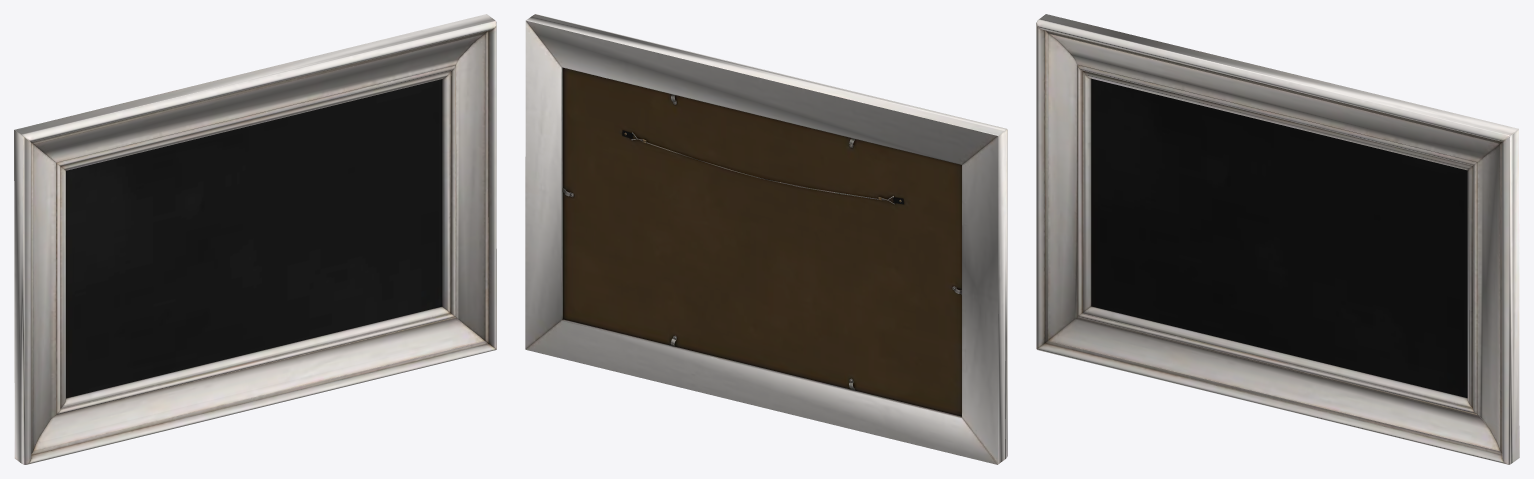
File: hanging_picture_frame_02.glb
The picture shows the model from 3 angles, left to right: view 1: azimuth 30°, elevation 25°; view 2: azimuth 150°, elevation 25°; view 3: azimuth 330°, elevation 25°; orthographic projection.
Visible parts, largest first — view 1: hanging_picture_frame_02; view 2: hanging_picture_frame_02; view 3: hanging_picture_frame_02.
Part boxes in pixels (<box>): hanging_picture_frame_02: <box>14,14,496,464</box>; hanging_picture_frame_02: <box>525,14,1007,464</box>; hanging_picture_frame_02: <box>1036,14,1519,464</box>.
Size of the model in its own units: 0.7518 by 0.5 by 0.033.
Materials: 3 (3 with a texture image).
